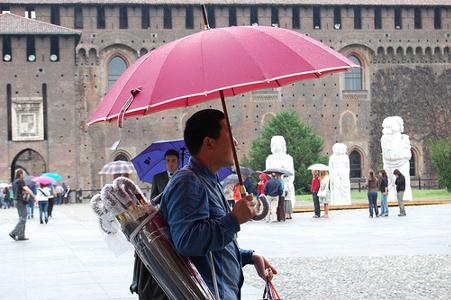person: (159, 109, 277, 300)
